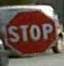stop: (2, 6, 58, 56)
